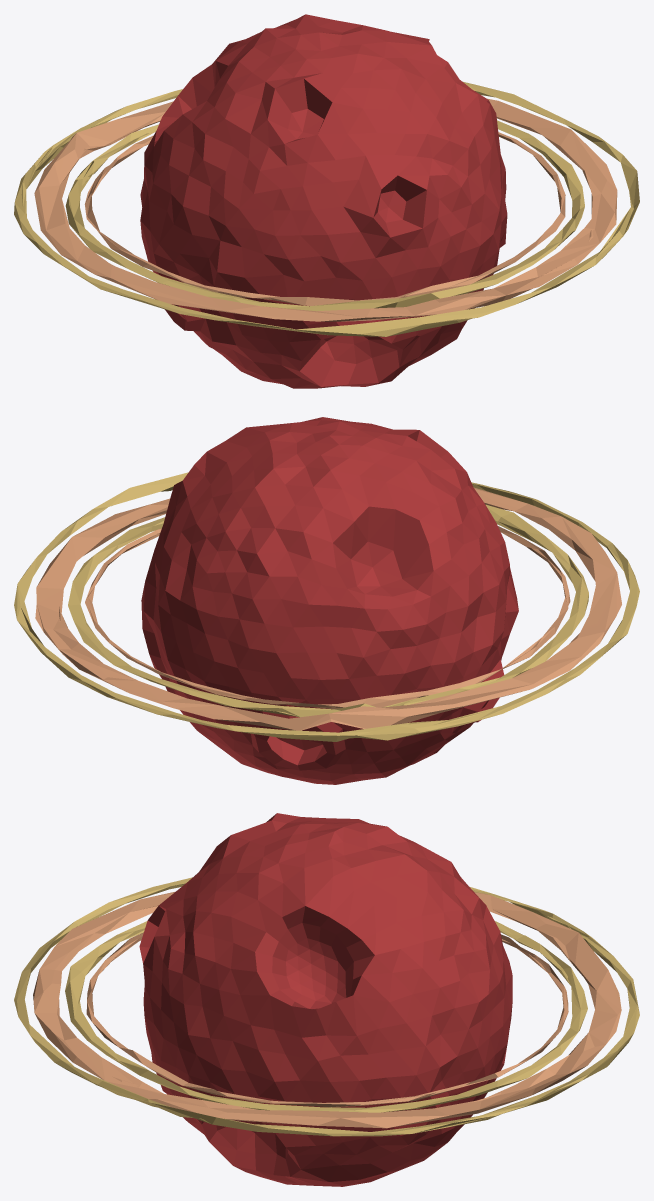
The model's file is red_planet.glb.
The picture shows the model from 3 angles, top to bottom: view 1: azimuth 30°, elevation 25°; view 2: azimuth 150°, elevation 25°; view 3: azimuth 270°, elevation 25°; orthographic projection.
Visible parts, largest first — view 1: Planet, Rings; view 2: Planet, Rings; view 3: Planet, Rings.
Part boxes in pixels (<box>): Planet: <box>140,14,507,388</box>; Rings: <box>14,82,639,336</box>; Planet: <box>141,417,518,784</box>; Rings: <box>14,472,639,741</box>; Planet: <box>139,813,512,1186</box>; Rings: <box>14,877,639,1136</box>.
Size of the model in its own units: 3.38 by 2.03 by 3.39.
